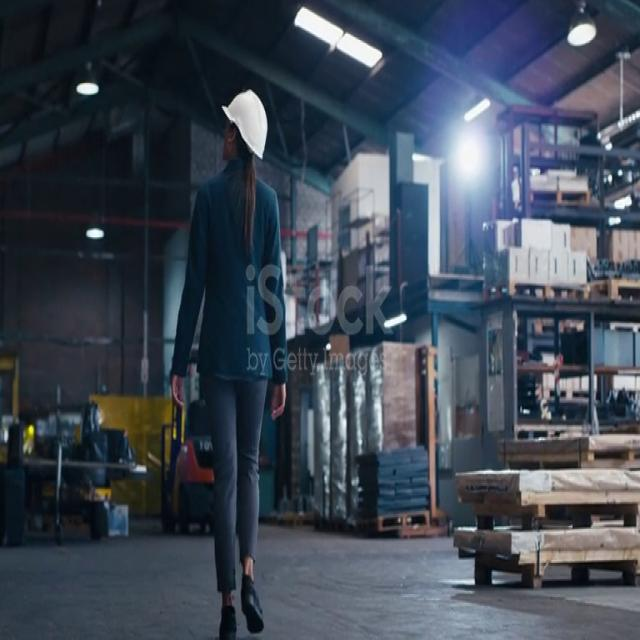capacete: (218, 78, 276, 168)
